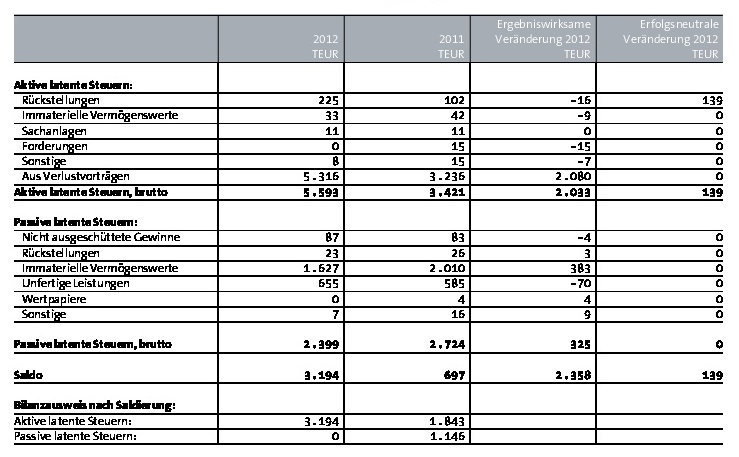table: (0, 0, 739, 457)
